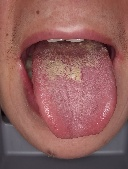tongue: (31, 48, 118, 141)
